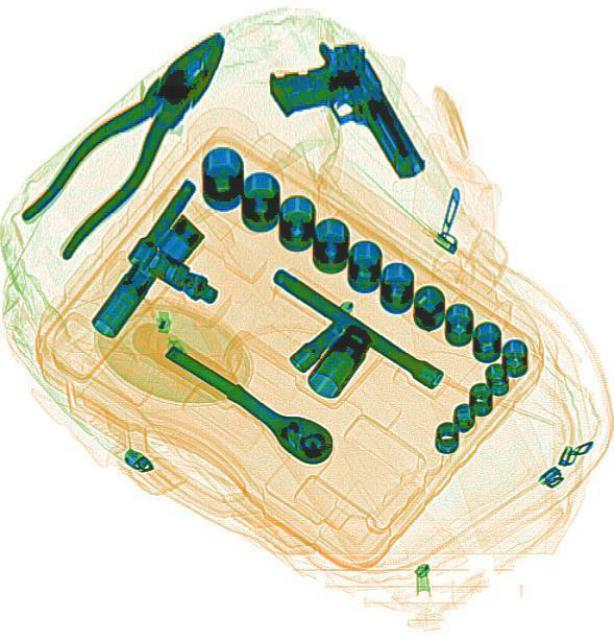Gun: (257, 26, 427, 212)
Pliers: (10, 15, 253, 261)
